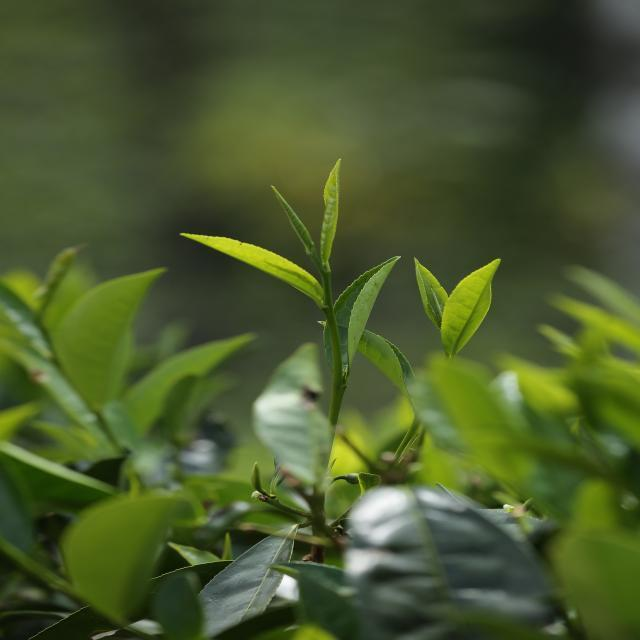Stem: (326, 307, 335, 318)
